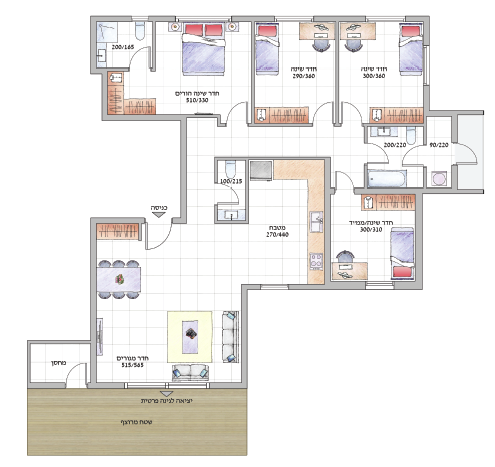door: (144, 222, 174, 250), (340, 98, 364, 126), (225, 98, 249, 124), (312, 100, 335, 126), (458, 139, 479, 167), (130, 45, 154, 69), (368, 142, 390, 167), (66, 358, 88, 381), (333, 171, 357, 188)
wall: (91, 217, 96, 389), (179, 114, 186, 221), (416, 186, 422, 288), (103, 115, 177, 121), (251, 22, 255, 126), (242, 286, 246, 386), (90, 16, 97, 73), (424, 109, 485, 115), (424, 187, 480, 193), (288, 284, 366, 288), (335, 23, 339, 97), (27, 381, 62, 388), (98, 382, 125, 388), (211, 383, 240, 388)
window: (177, 16, 230, 21), (424, 44, 430, 88), (275, 15, 312, 22), (367, 15, 406, 20)
